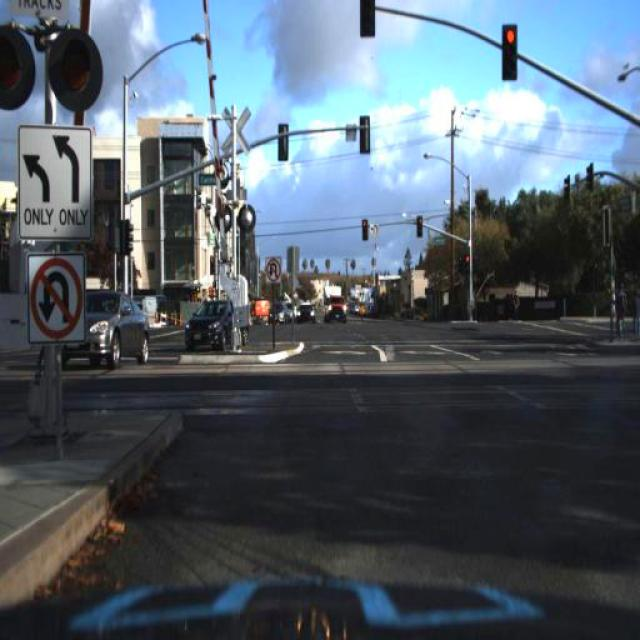semaforo: (501, 24, 518, 81)
